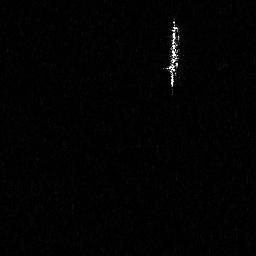ship: (163, 18, 182, 89)
